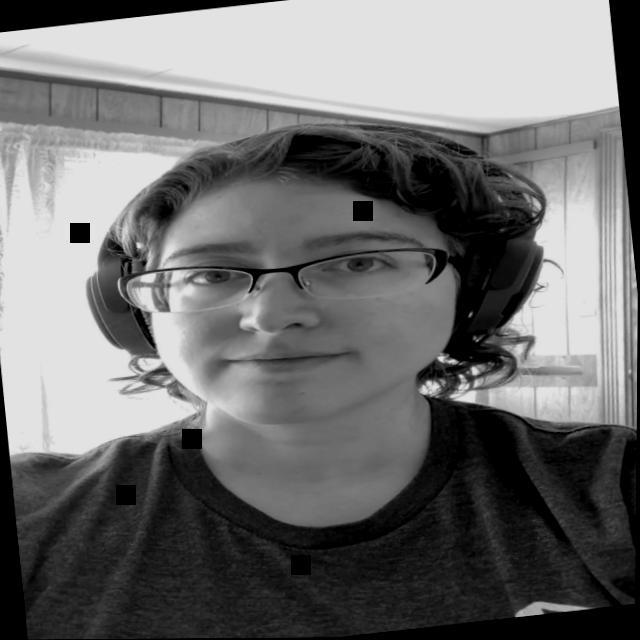NO-Mask: (134, 155, 480, 440)
